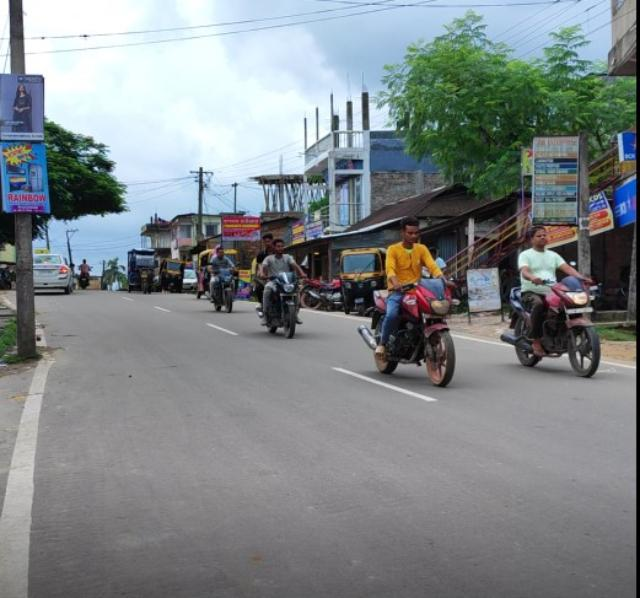licensePlate: (563, 307, 596, 315)
motorcycle: (358, 212, 463, 387), (501, 216, 606, 382), (255, 229, 306, 343), (202, 241, 244, 317)
withoutHelmet: (526, 221, 551, 248), (402, 216, 421, 243), (273, 240, 288, 257), (215, 246, 227, 262), (263, 235, 274, 249)
